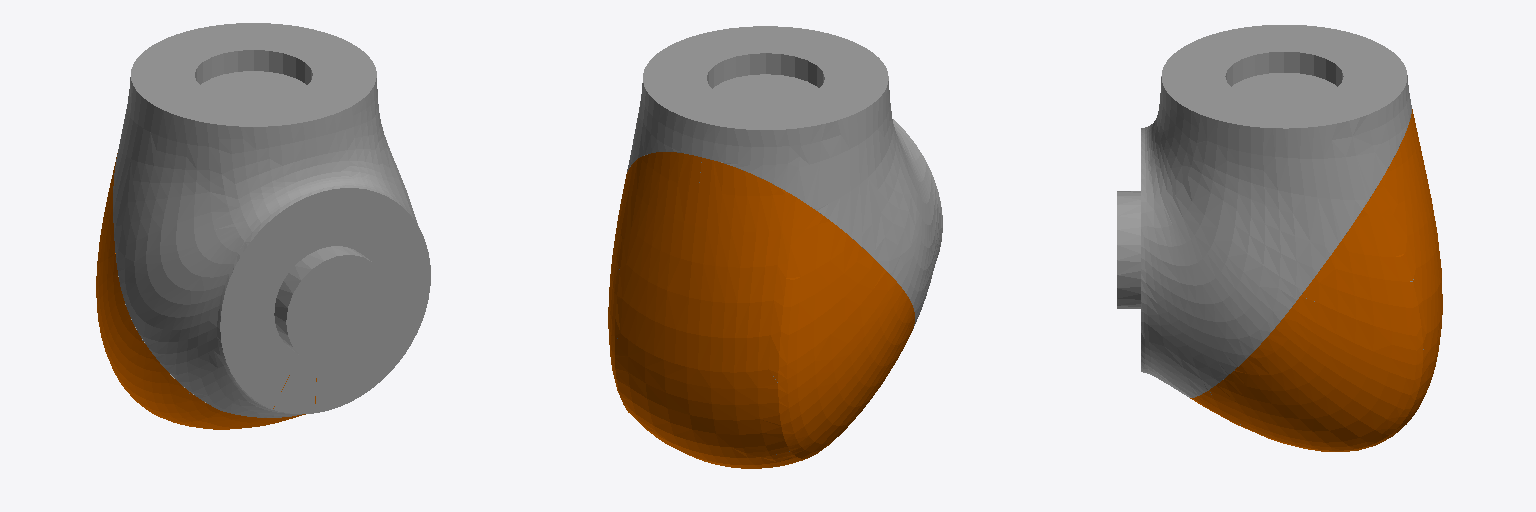
3 views of the same model, side by side, from view 1: azimuth 30°, elevation 25°; view 2: azimuth 150°, elevation 25°; view 3: azimuth 270°, elevation 25° (orthographic).
Parts seen in each view (by area): view 1: ShapeIndexedFaceSet; view 2: ShapeIndexedFaceSet; view 3: ShapeIndexedFaceSet.
Part boxes in pixels (bbox=[...]): ShapeIndexedFaceSet: bbox=[96, 23, 430, 429]; ShapeIndexedFaceSet: bbox=[608, 26, 942, 468]; ShapeIndexedFaceSet: bbox=[1117, 25, 1442, 451].
Size of the model in its own units: 0.1322 by 0.1673 by 0.1376.